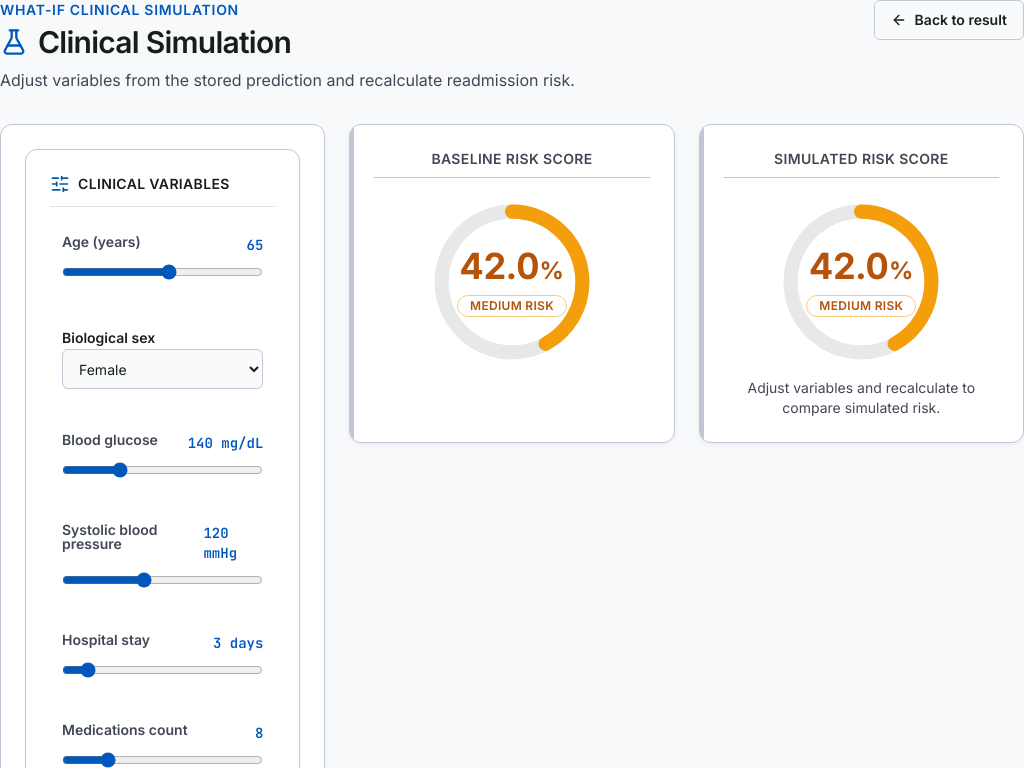
Scenario: SimulationPage › recalculates immediately when recalculate is clicked
Set the slider labelled "Blood glucose 140 mg/dL" to "200" at [132, 470], box [62,461,263,479]
(page scrolled)
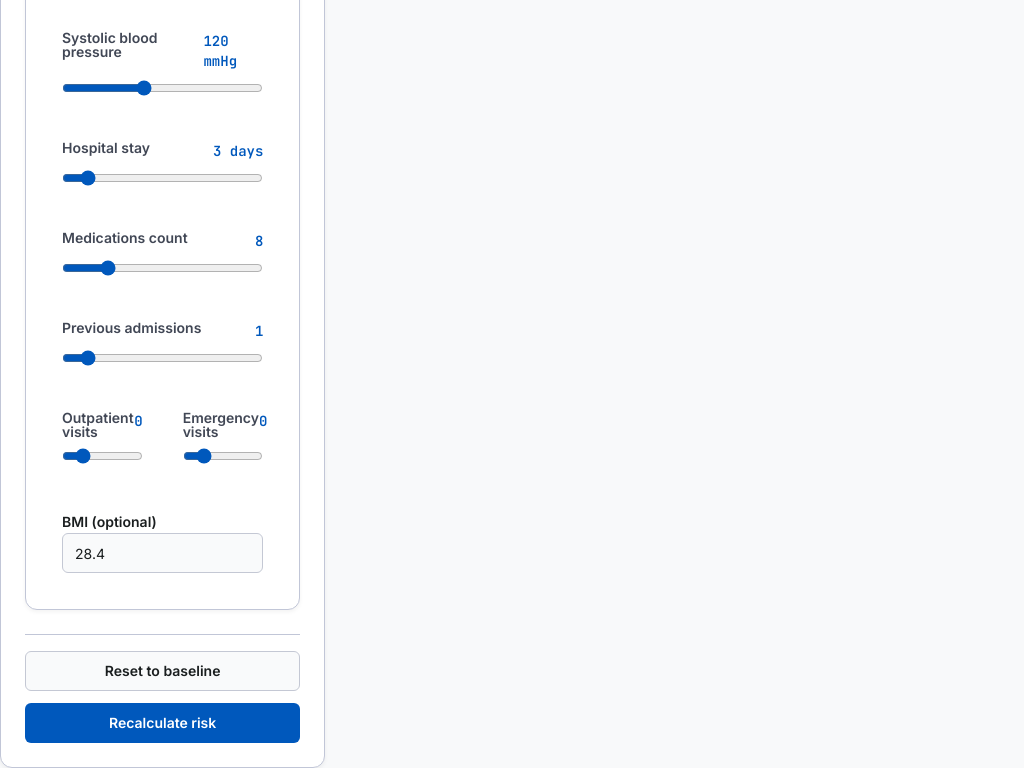
Click the button "Recalculate risk".
click(163, 723)  # box [25,703,300,743]
(page scrolled)
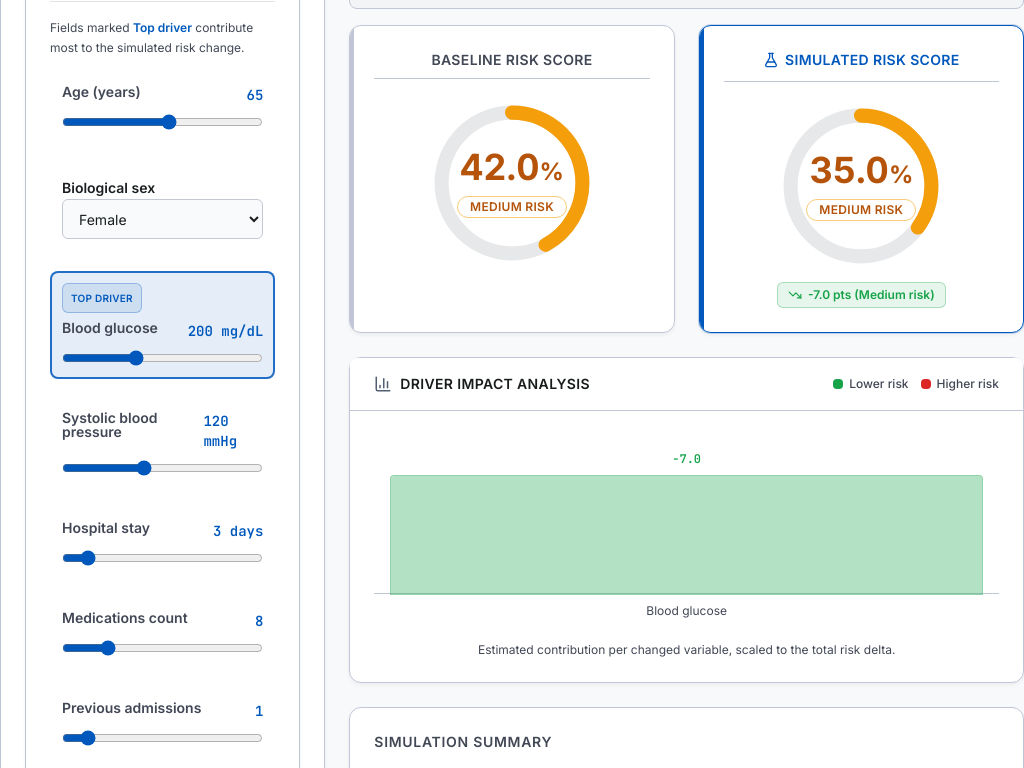
Now the text "-7.0 pts (Medium risk)" is shown, box [777,282,946,308]
Now the heading "Driver impact analysis" is shown, box [374,374,590,394]
